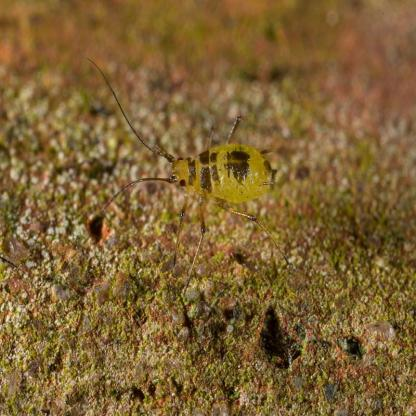aphid: (71, 63, 299, 271)
